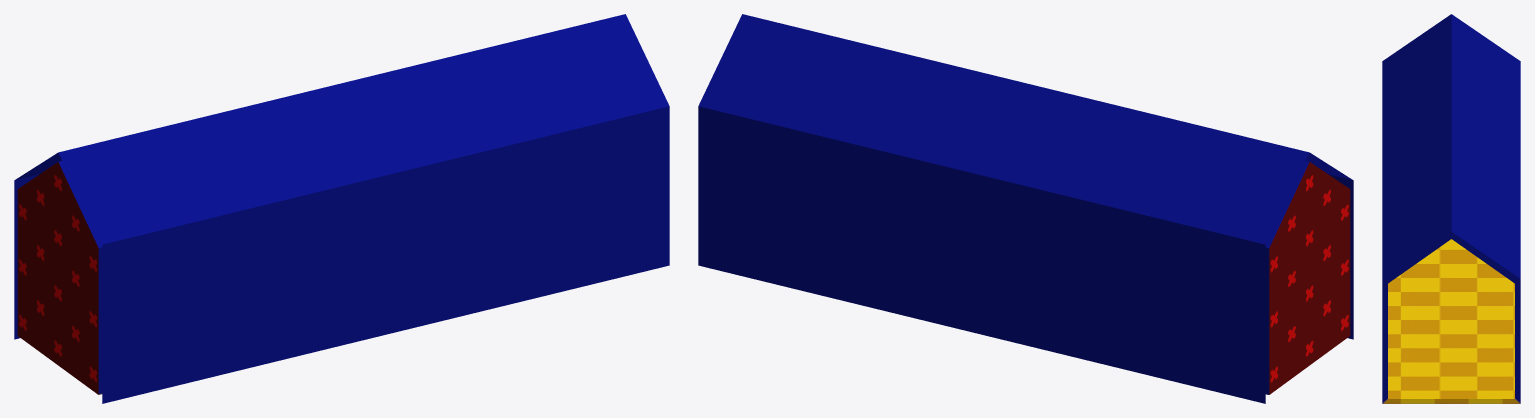
Rendered from Aisle.fbx.
The picture shows the model from 3 angles, left to right: view 1: azimuth 30°, elevation 25°; view 2: azimuth 150°, elevation 25°; view 3: azimuth 270°, elevation 25°; orthographic projection. The views are drawn at different scales.
Parts seen in each view (by area): view 1: Aisle; view 2: Aisle; view 3: Aisle.
Part boxes in pixels (x1=…): Aisle: x1=14, y1=14, x2=669, y2=403; Aisle: x1=698, y1=14, x2=1353, y2=403; Aisle: x1=1382, y1=14, x2=1520, y2=403.
Size of the model in its own units: 23.63 by 8.73 by 6.34.
